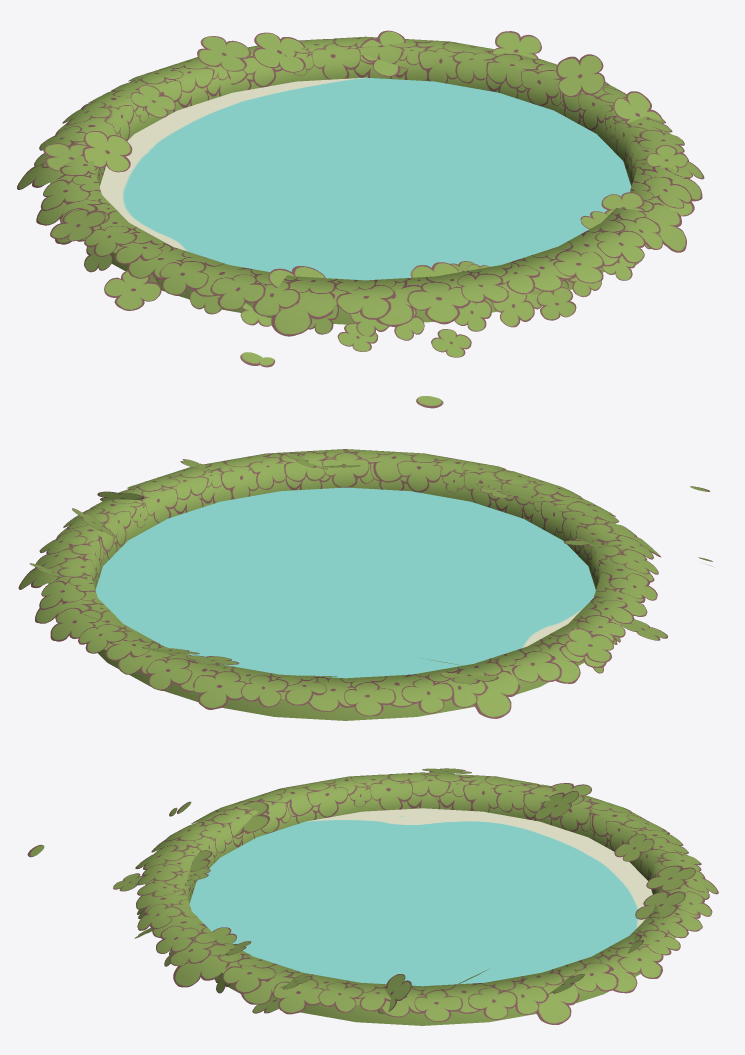
File: Mesh_Adventure_BeginnerStoryline_pond.fbx
3 views of the same model, one above another, from view 1: azimuth 30°, elevation 25°; view 2: azimuth 150°, elevation 25°; view 3: azimuth 270°, elevation 25° (orthographic). The views are drawn at different scales.
Parts seen in each view (by area): view 1: Mesh_Adventure_BeginnerStoryline_Pond; view 2: Mesh_Adventure_BeginnerStoryline_Pond; view 3: Mesh_Adventure_BeginnerStoryline_Pond.
Part boxes in pixels (box(x1,y1,x2,y2)): Mesh_Adventure_BeginnerStoryline_Pond: box(17, 30, 704, 408); Mesh_Adventure_BeginnerStoryline_Pond: box(18, 449, 712, 720); Mesh_Adventure_BeginnerStoryline_Pond: box(27, 768, 718, 1025).
Bounding box in the file's own units: 127 × 18.61 × 145.
Materials: 1 (1 with a texture image).
